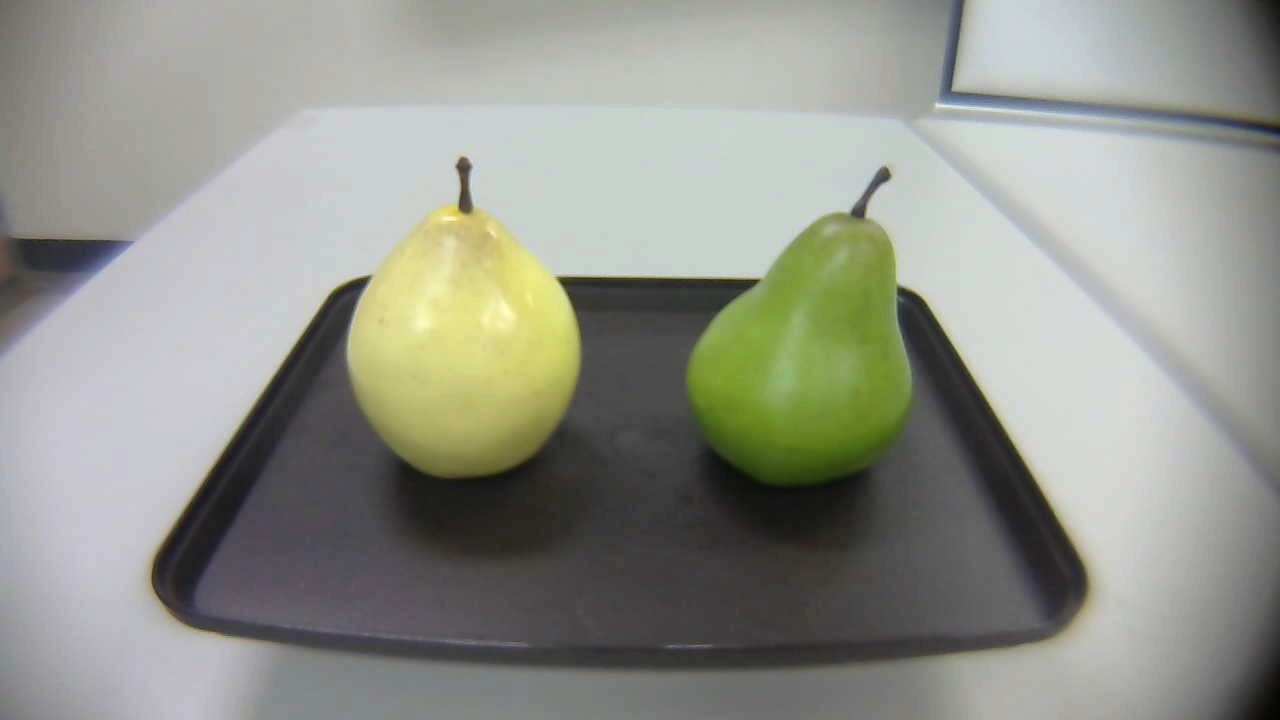green pear: (662, 159, 920, 498)
western pear: (317, 155, 599, 487)
